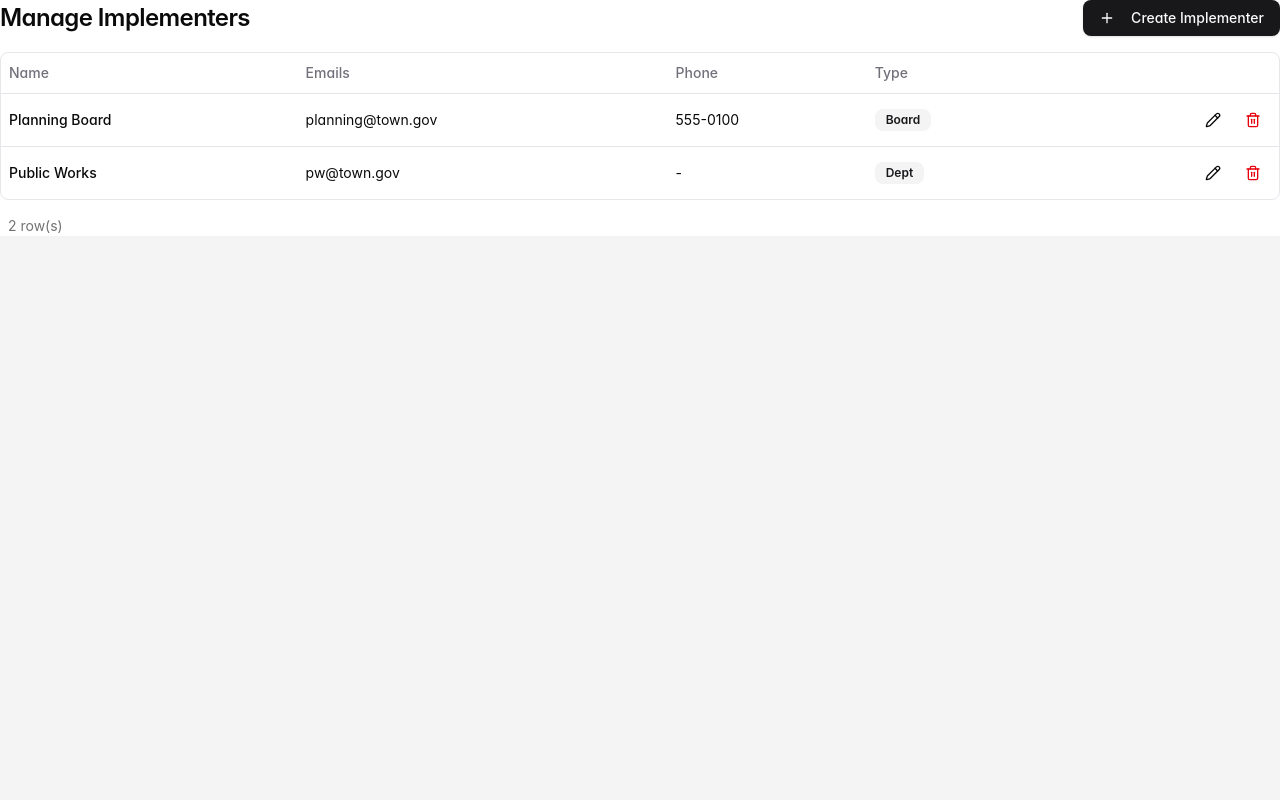
Test: ManageImplementers › as Admin › opens create form when Create button is clicked
The width and height of the screenshot is (1280, 800).
Click the button "Create Implementer": (1182, 18) x1=1083 y1=0 x2=1279 y2=36
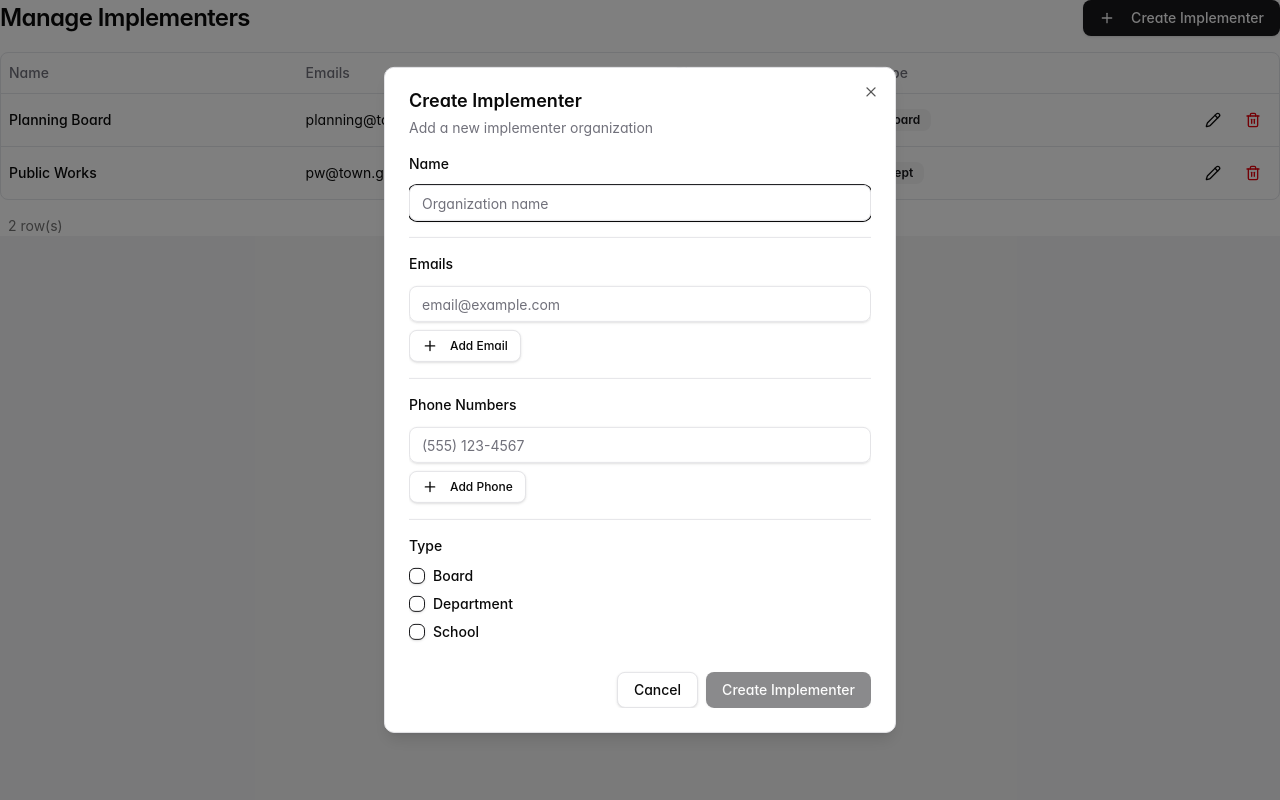
Now the text "Add a new implementer organization" is shown, box x1=409 y1=119 x2=653 y2=136
